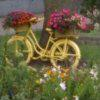Bicycle: (5, 9, 83, 81)
